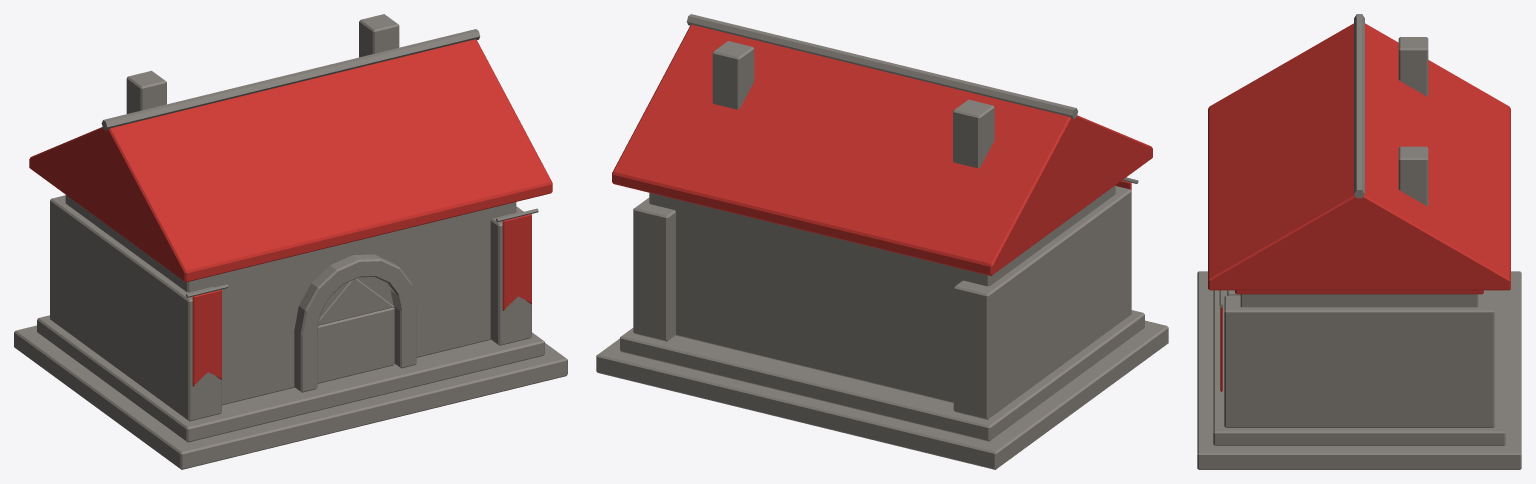
Rendered from barracks_crimson.obj.
The picture shows the model from 3 angles, left to right: view 1: azimuth 30°, elevation 25°; view 2: azimuth 150°, elevation 25°; view 3: azimuth 270°, elevation 25°; orthographic projection. The views are drawn at different scales.
Visible parts, largest first — view 1: barracks_crimson; view 2: barracks_crimson; view 3: barracks_crimson.
Part boxes in pixels (x1,y1,x2,y2): barracks_crimson: (14, 14, 567, 469); barracks_crimson: (596, 14, 1168, 469); barracks_crimson: (1197, 14, 1521, 469).
Size of the model in its own units: 8 by 5.75 by 6.
